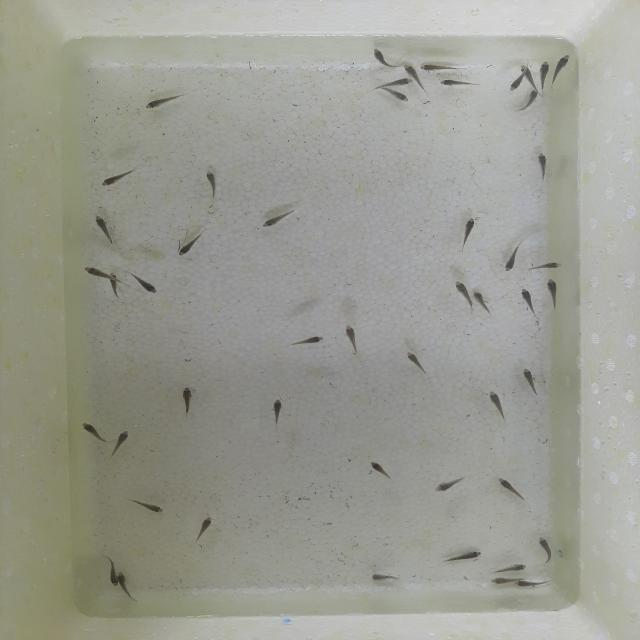fingerling: (454, 212, 483, 250), (167, 230, 203, 260), (93, 168, 140, 190), (481, 388, 509, 424), (257, 207, 297, 232), (142, 92, 190, 112), (192, 512, 224, 542), (198, 168, 227, 198), (401, 347, 432, 375), (496, 475, 527, 503), (88, 212, 117, 241), (128, 271, 161, 296), (76, 420, 109, 444), (440, 550, 489, 566), (533, 532, 557, 564), (426, 476, 464, 496), (540, 274, 563, 307), (518, 363, 540, 397), (177, 384, 201, 415), (286, 333, 331, 349), (267, 395, 290, 426), (340, 322, 363, 352), (533, 148, 551, 186), (130, 498, 168, 516), (450, 274, 471, 306), (365, 458, 394, 481), (518, 286, 537, 321), (499, 245, 523, 272), (364, 568, 404, 584), (110, 427, 132, 456), (370, 44, 394, 70), (472, 287, 493, 316), (433, 78, 479, 90), (552, 53, 574, 77), (524, 260, 567, 272), (534, 58, 554, 82), (520, 89, 539, 114), (491, 562, 529, 574), (82, 264, 110, 280), (514, 578, 550, 590), (419, 64, 461, 74), (117, 568, 132, 596), (105, 563, 118, 587), (487, 576, 513, 588), (505, 75, 523, 92), (392, 90, 412, 104), (402, 62, 419, 78), (389, 77, 414, 87)
